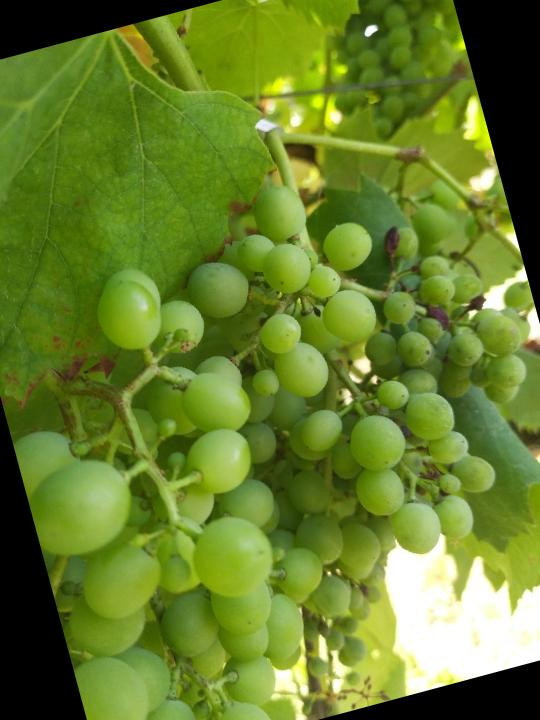grape: (0, 242, 361, 720), (237, 132, 540, 575)
